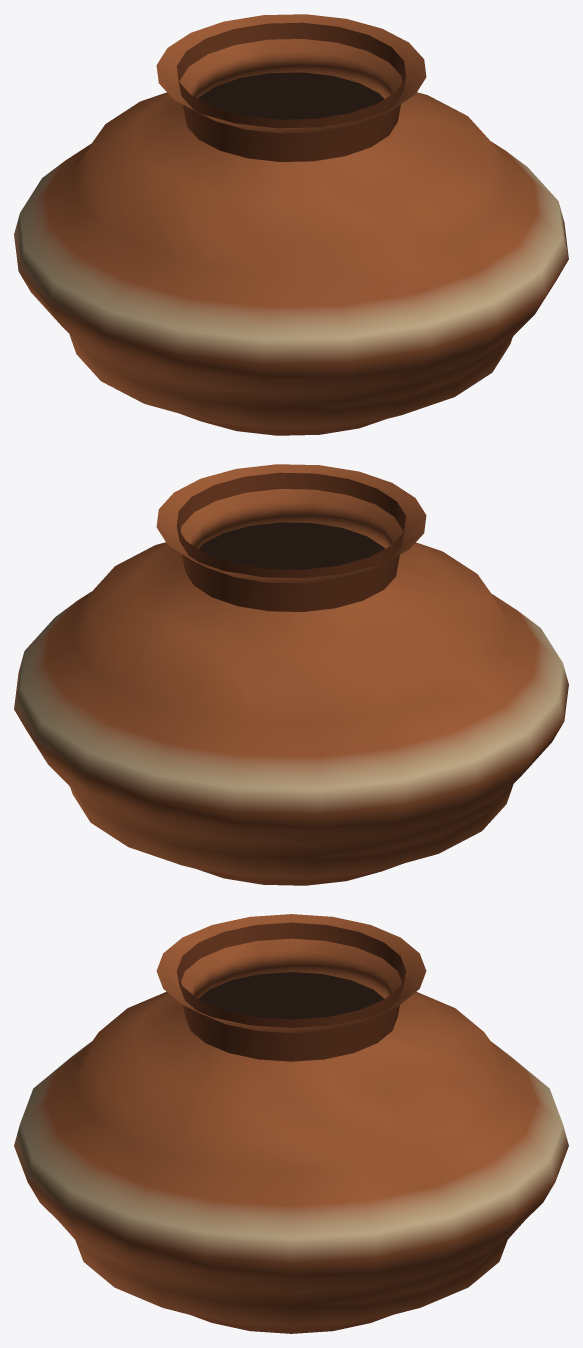
The model's file is pot-b.glb.
3 views of the same model, one above another, from view 1: azimuth 30°, elevation 25°; view 2: azimuth 150°, elevation 25°; view 3: azimuth 270°, elevation 25° (orthographic).
Visible parts, largest first — view 1: pot-b; view 2: pot-b; view 3: pot-b.
Part boxes in pixels (x1=…): pot-b: x1=14, y1=14, x2=568, y2=435; pot-b: x1=14, y1=464, x2=568, y2=885; pot-b: x1=14, y1=914, x2=568, y2=1333.
Size of the model in its own units: 0.329 by 0.2 by 0.329.
